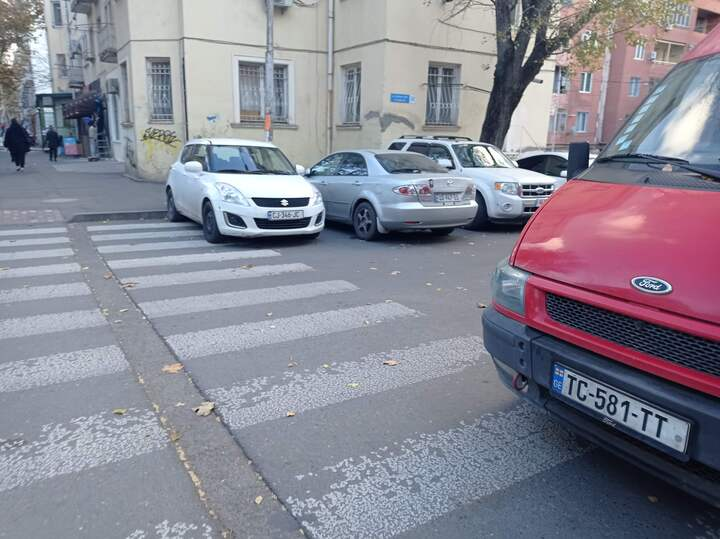plate: (550, 361, 690, 462), (267, 210, 303, 220), (433, 192, 462, 202)
